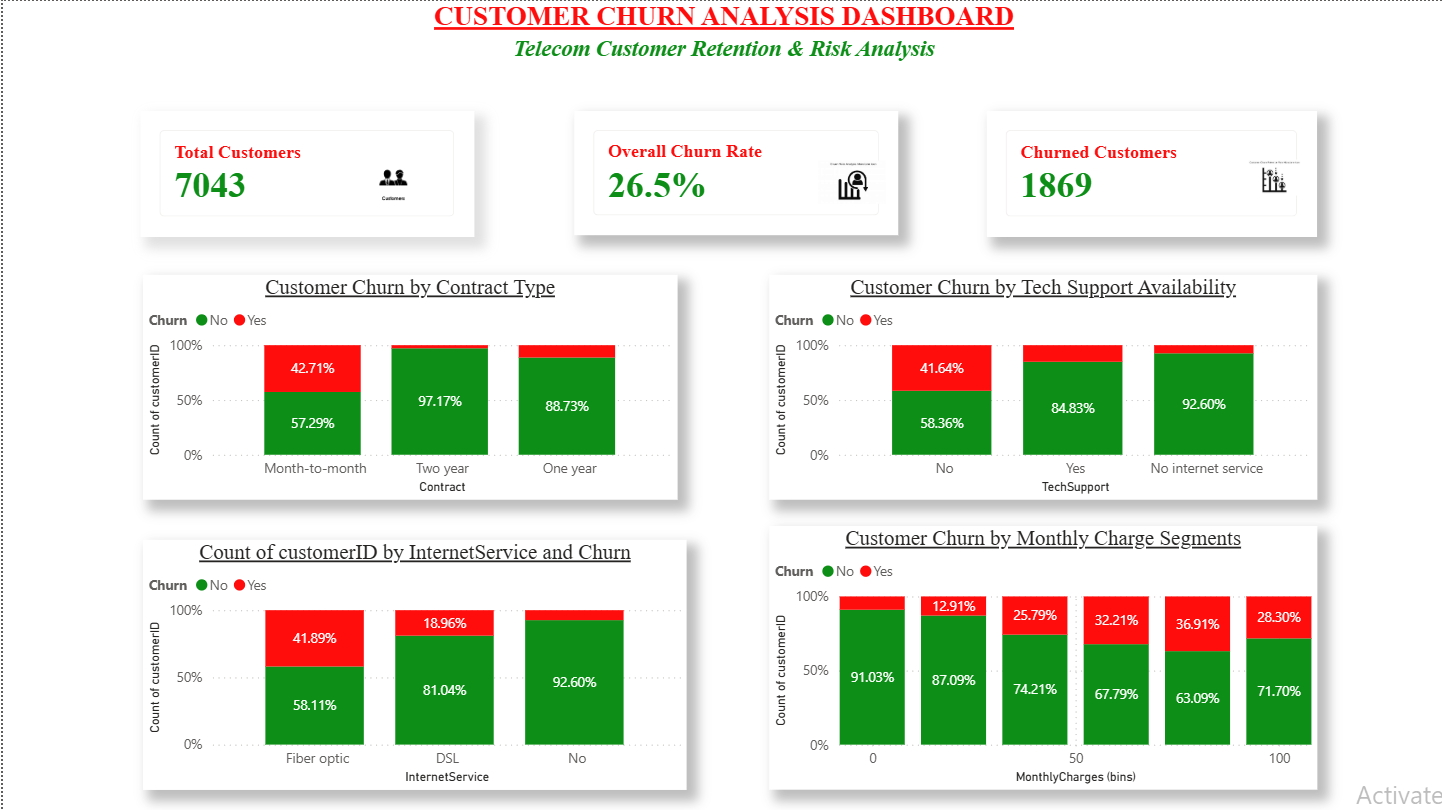

This screenshot's page, from the dashboard's own definition file:
{"tool":"powerbi","page":{"name":"Executive Overview 1","canvas":[1280,720],"ordinal":0},"visuals":[{"type":"cardVisual","fields":{"Data":["CountNonNull(churn_data.customerID)"]},"box":[122.7,98.2,296.9,111.7],"z":0},{"type":"cardVisual","fields":{"Data":["churn_data.Churn Rate"]},"box":[508,98.2,288.3,110.4],"z":1},{"type":"textbox","title":"CUSTOMER CHURN ANALYSIS DASHBOARD","box":[254,0,773,110.4],"z":2},{"type":"cardVisual","fields":{"Data":["churn_data.Total Churned"]},"box":[874.9,98.2,293.3,111.7],"z":3},{"type":"image","box":[307.4,131.7,78.2,49.4],"z":4},{"type":"image","box":[724.5,141.3,60.4,39.8],"z":5},{"type":"image","box":[1101.9,131.7,56.3,49.4],"z":6},{"type":"hundredPercentStackedColumnChart","title":"Customer Churn by Contract Type","fields":{"Category":["churn_data.Contract"],"Series":["churn_data.Churn"],"Y":["CountNonNull(churn_data.customerID)"]},"box":[123.9,242.9,474.8,200],"z":11},{"type":"hundredPercentStackedColumnChart","title":"Customer Churn by Tech Support Availability","fields":{"Category":["churn_data.TechSupport"],"Series":["churn_data.Churn"],"Y":["CountNonNull(churn_data.customerID)"]},"box":[681,242.9,487.1,200],"z":12},{"type":"hundredPercentStackedColumnChart","fields":{"Category":["churn_data.InternetService"],"Series":["churn_data.Churn"],"Y":["CountNonNull(churn_data.customerID)"]},"box":[123.9,478.5,483.4,222.1],"z":13},{"type":"hundredPercentStackedColumnChart","title":"Customer Churn by Monthly Charge Segments","fields":{"Category":["churn_data.MonthlyCharges (bins)"],"Series":["churn_data.Churn"],"Y":["CountNonNull(churn_data.customerID)"]},"box":[681,466.3,487.1,234.4],"z":14}]}

Visuals, with their boxes in screenshot pixels (x1, y1, x2, y2), scaled from the page's 1280x720 canvas onto the 1442x810 screenshot:
cardVisual - CountNonNull(churn_data.customerID): Rect(138, 110, 473, 236)
cardVisual - churn_data.Churn Rate: Rect(572, 110, 897, 235)
"CUSTOMER CHURN ANALYSIS DASHBOARD" textbox: Rect(286, 0, 1157, 124)
cardVisual - churn_data.Total Churned: Rect(986, 110, 1316, 236)
image: Rect(346, 148, 434, 204)
image: Rect(816, 159, 884, 204)
image: Rect(1241, 148, 1305, 204)
"Customer Churn by Contract Type" hundredPercentStackedColumnChart: Rect(140, 273, 674, 498)
"Customer Churn by Tech Support Availability" hundredPercentStackedColumnChart: Rect(767, 273, 1316, 498)
hundredPercentStackedColumnChart - churn_data.InternetService x churn_data.Churn: Rect(140, 538, 684, 788)
"Customer Churn by Monthly Charge Segments" hundredPercentStackedColumnChart: Rect(767, 525, 1316, 788)
